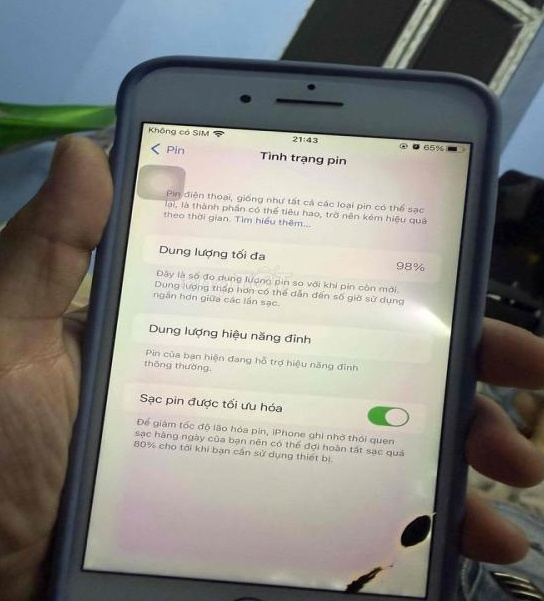physical_damage: (289, 494, 461, 601)
screen_defect: (387, 511, 449, 554), (325, 559, 389, 597)
